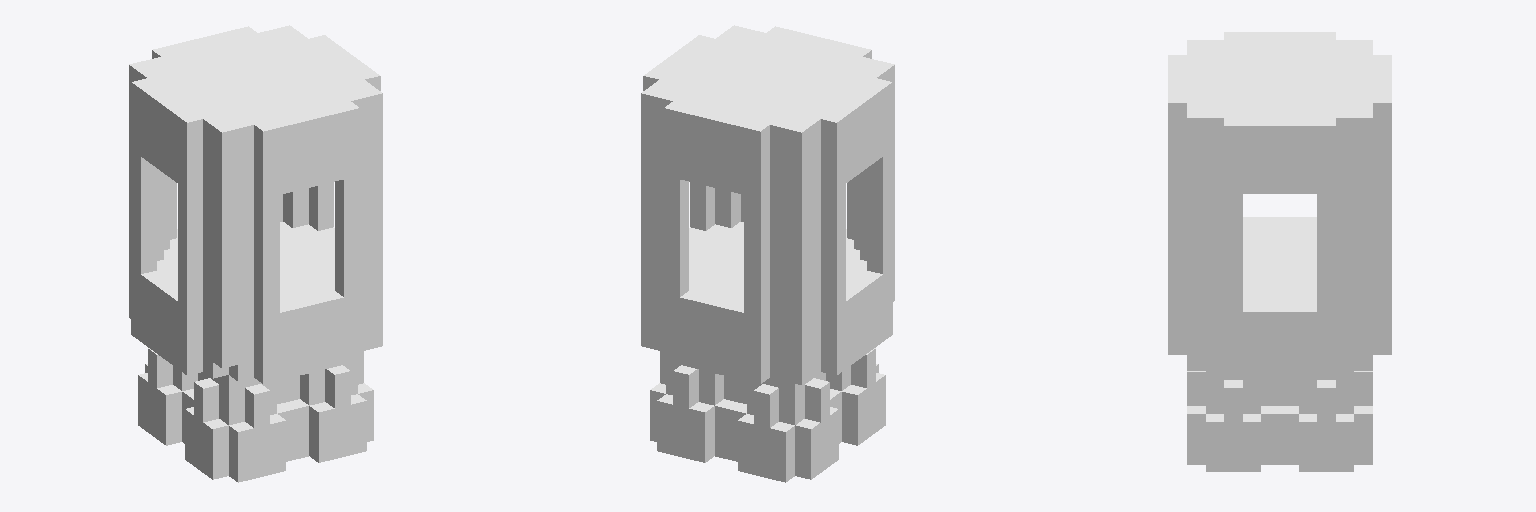
Rendered from Capsule_EscapePod.obj.
The picture shows the model from 3 angles: view 1: azimuth 30°, elevation 25°; view 2: azimuth 150°, elevation 25°; view 3: azimuth 270°, elevation 25°; orthographic projection.
Visible parts, largest first — view 1: Capsule_EscapePod; view 2: Capsule_EscapePod; view 3: Capsule_EscapePod.
Boxes of the visible parts, box(x1,y1,x2,y2) form: Capsule_EscapePod: box(129, 25, 382, 482); Capsule_EscapePod: box(641, 25, 894, 482); Capsule_EscapePod: box(1168, 32, 1391, 471).
Size of the model in its own units: 12 by 21 by 12.